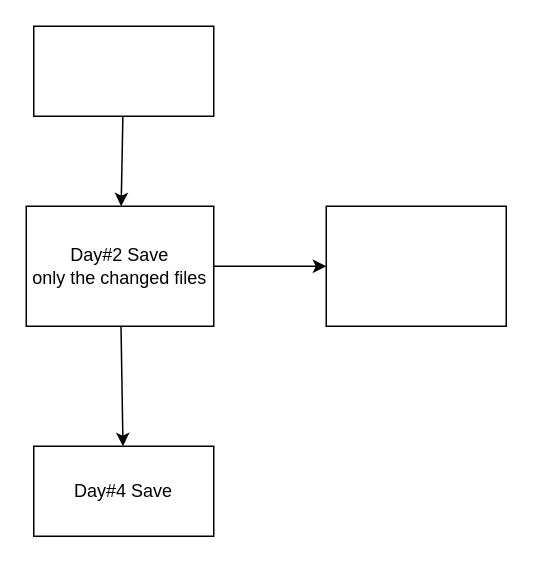
The diagram is 533 pixels wide and 563 high, and some of its shapes have lost their labels. Here are the shapes that lost their labels. From the top down, the box of each, then its label:
(32, 25, 214, 116): Day#1 Save + all the files at once
(325, 205, 506, 326): Day#3 Save
